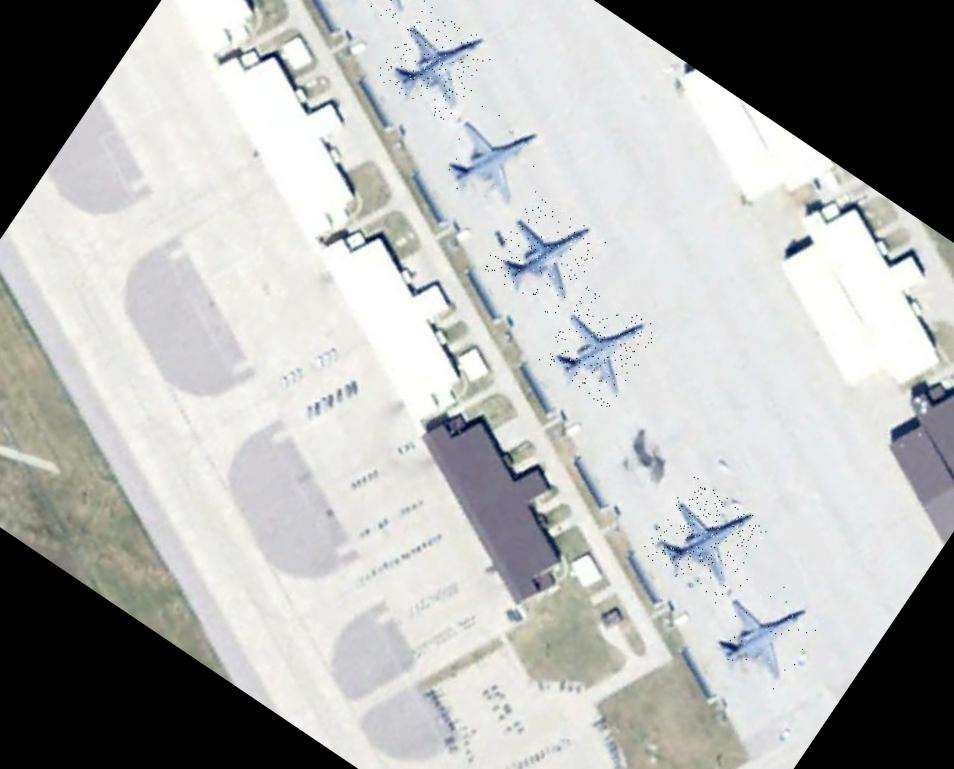A10: (640, 473, 771, 604), (699, 565, 828, 696), (481, 189, 608, 318), (536, 282, 663, 410), (430, 93, 556, 220), (373, 0, 499, 125), (323, 0, 446, 27)
